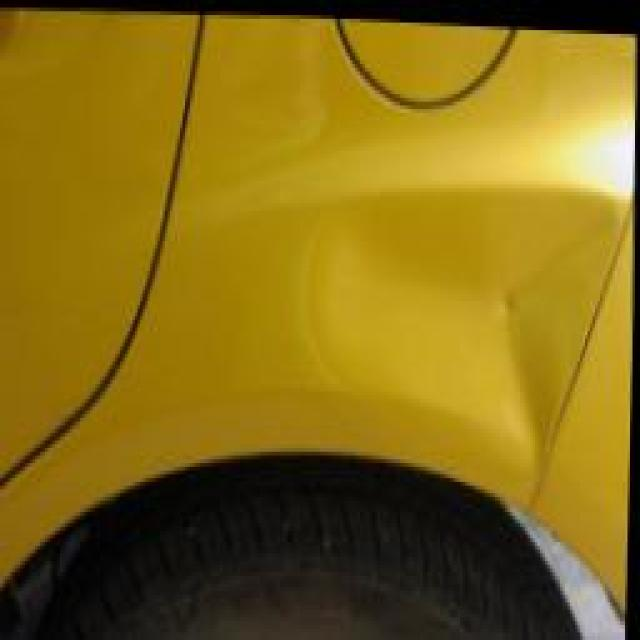Fender: (270, 132, 586, 450)
